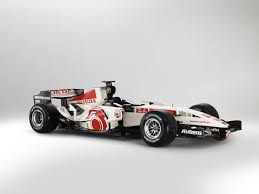FormulaOneCar: (25, 81, 245, 152)
